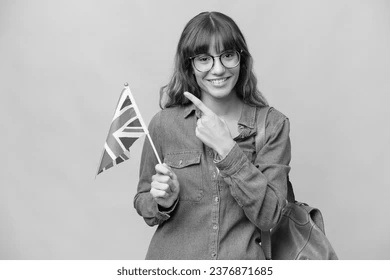pointing_gesture: (181, 89, 233, 151)
